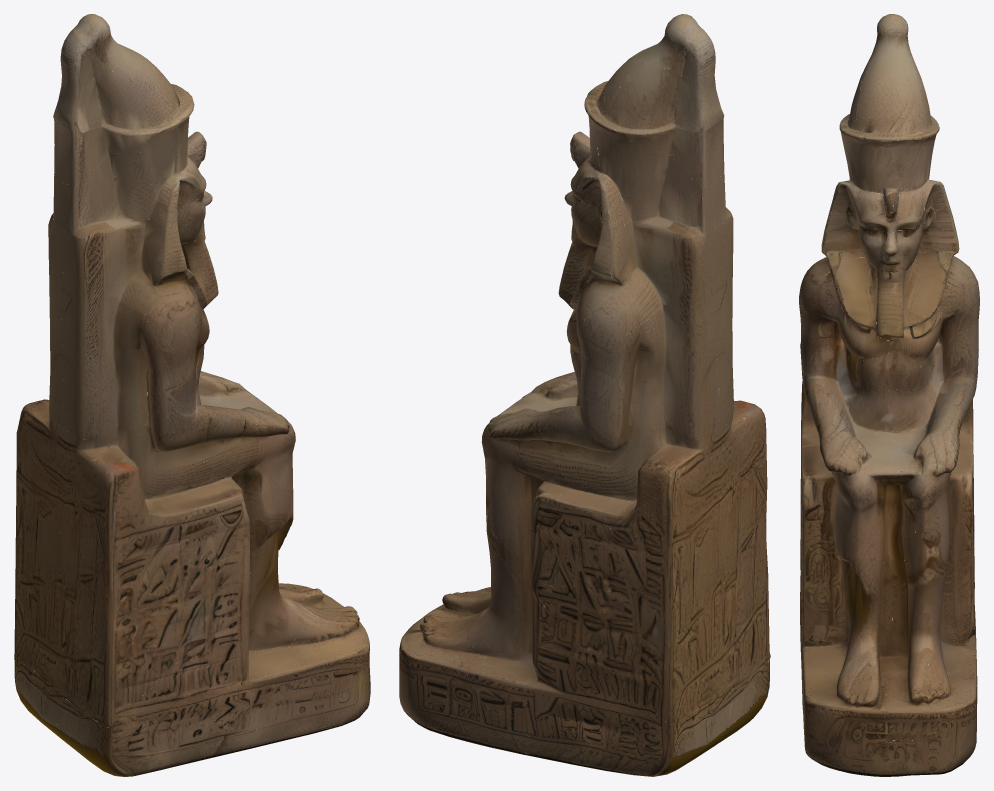
Rendered from King_Ramsis.glb.
The picture shows the model from 3 angles, left to right: view 1: azimuth 30°, elevation 25°; view 2: azimuth 150°, elevation 25°; view 3: azimuth 270°, elevation 25°; orthographic projection. The views are drawn at different scales.
Parts seen in each view (by area): view 1: tripo_node_4f2f2434-4c36-4613-b574-1bc2c0c97682; view 2: tripo_node_4f2f2434-4c36-4613-b574-1bc2c0c97682; view 3: tripo_node_4f2f2434-4c36-4613-b574-1bc2c0c97682.
Boxes of the visible parts, x1=… form: tripo_node_4f2f2434-4c36-4613-b574-1bc2c0c97682: x1=14, y1=14, x2=370, y2=776; tripo_node_4f2f2434-4c36-4613-b574-1bc2c0c97682: x1=399, y1=14, x2=770, y2=776; tripo_node_4f2f2434-4c36-4613-b574-1bc2c0c97682: x1=799, y1=14, x2=979, y2=776.
Size of the model in its own units: 2.5 by 6 by 1.5.
1 material, 1 textured.
